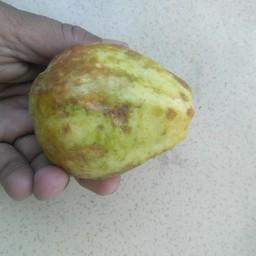Bad_guava: (27, 40, 198, 179)
